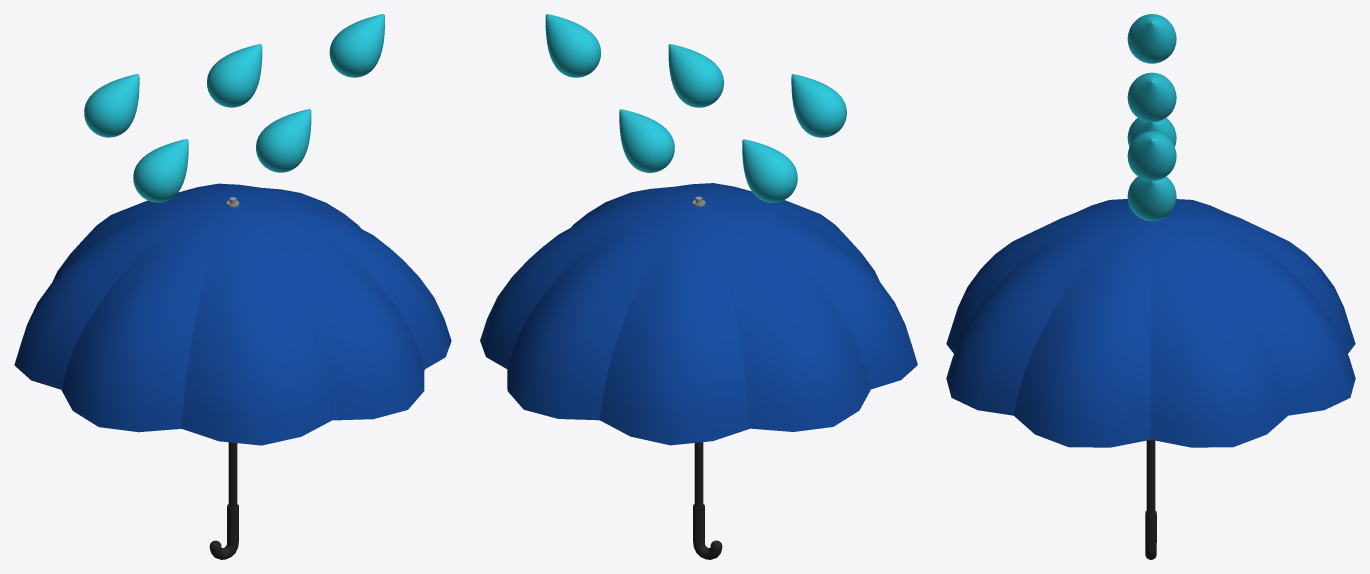
The model's file is umbrella_with_rain_drops.gltf.
3 renders of one model, left to right at view 1: azimuth 30°, elevation 25°; view 2: azimuth 150°, elevation 25°; view 3: azimuth 270°, elevation 25°, orthographic. The views are drawn at different scales.
Parts seen in each view (by area): view 1: Circle.2126; view 2: Circle.2126; view 3: Circle.2126.
Boxes of the visible parts, x1,y1,x2,y2 form: Circle.2126: (14,14,451,559); Circle.2126: (480,14,917,559); Circle.2126: (946,14,1355,559).
Bounding box in the file's own units: 1.73 × 2.31 × 1.73.
1 material, 1 textured.
